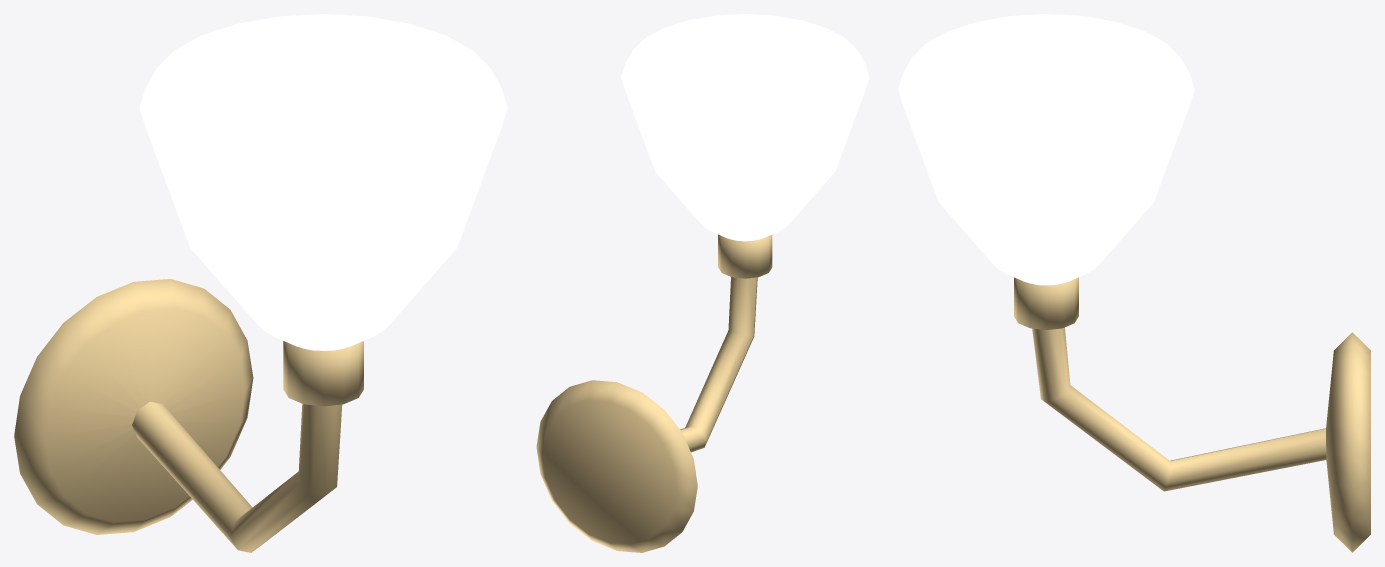
File: sconce.glb
3 views of the same model, side by side, from view 1: azimuth 30°, elevation 25°; view 2: azimuth 150°, elevation 25°; view 3: azimuth 270°, elevation 25° (orthographic). The views are drawn at different scales.
Visible parts, largest first — view 1: sconce; view 2: sconce; view 3: sconce.
Part boxes in pixels (x1,y1,x2,y2): sconce: (14, 14, 507, 552); sconce: (536, 14, 869, 552); sconce: (898, 14, 1370, 552).
Size of the model in its own units: 0.32 by 0.56 by 0.51.
